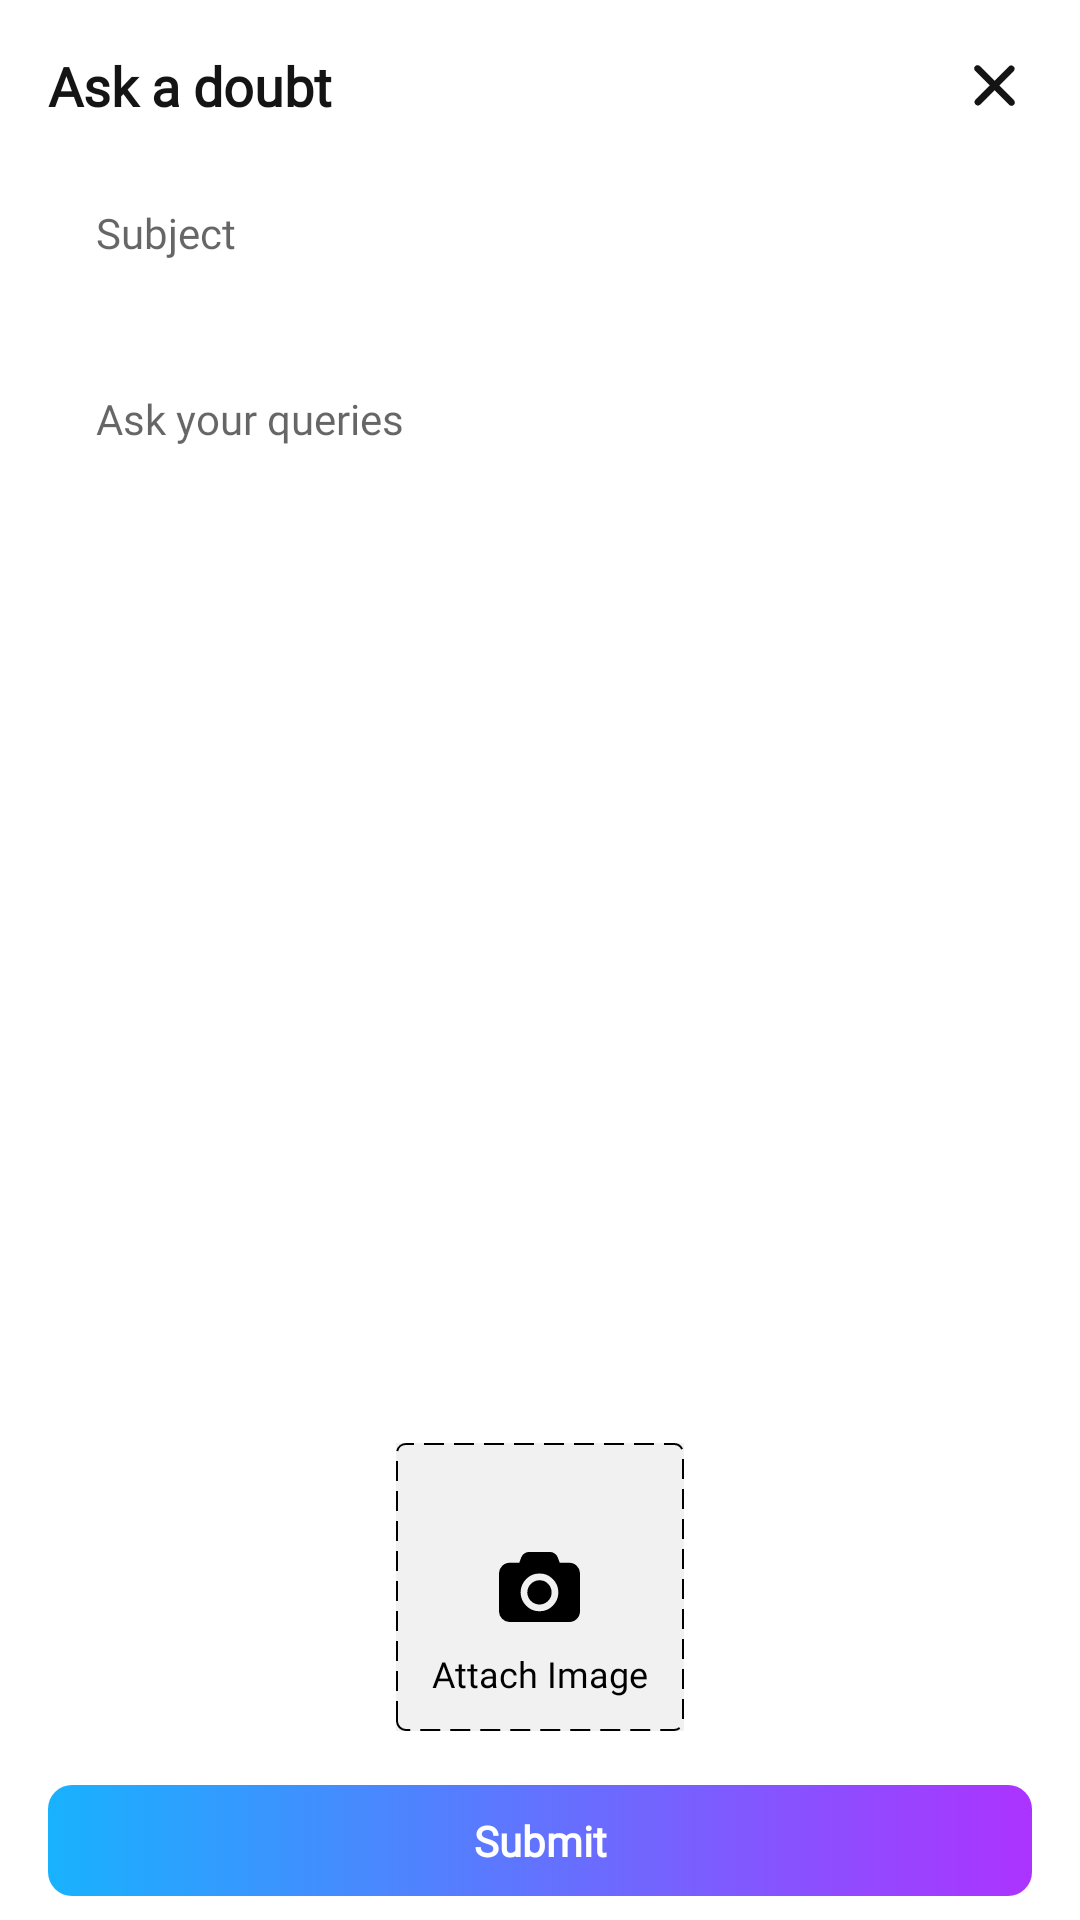

Icons on this 1080x1920 Android screen, each with its box as (x1, y1, x2, y2):
camera: (499, 1552, 580, 1622)
close: (974, 65, 1015, 106)
